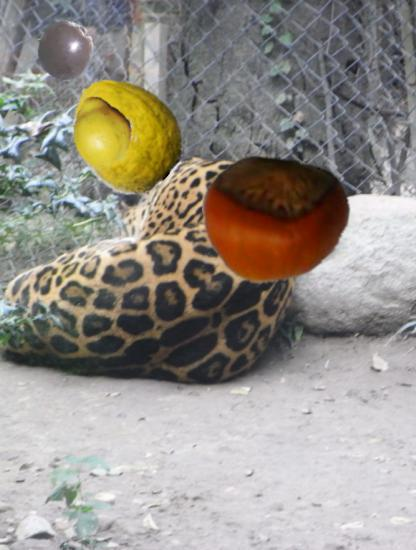Guava: (63, 74, 185, 196)
Nut: (201, 148, 349, 296)
Passion: (35, 20, 96, 81)
Quince: (65, 94, 138, 167)
